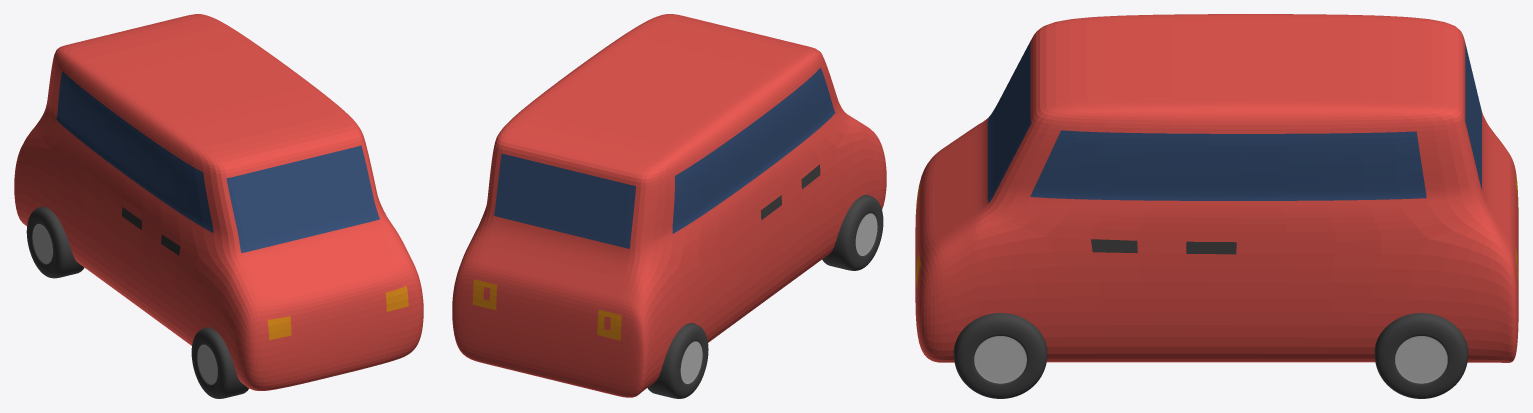
File: Minivan.fbx
The picture shows the model from 3 angles, left to right: view 1: azimuth 30°, elevation 25°; view 2: azimuth 150°, elevation 25°; view 3: azimuth 270°, elevation 25°; orthographic projection. The views are drawn at different scales.
Parts seen in each view (by area): view 1: Minivan; view 2: Minivan; view 3: Minivan.
Part boxes in pixels (x1,y1,x2,y2): Minivan: [14, 14, 423, 398]; Minivan: [452, 14, 886, 398]; Minivan: [915, 14, 1518, 398].
Bounding box in the file's own units: 514 × 545 × 1060.
